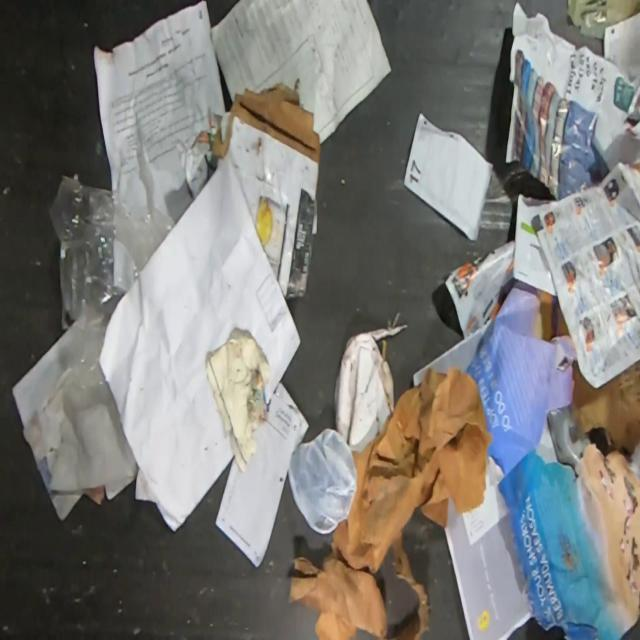cardboard: (198, 83, 320, 300), (571, 359, 640, 461), (567, 0, 639, 41)
soft_plastic: (50, 174, 177, 393), (288, 427, 356, 535)
